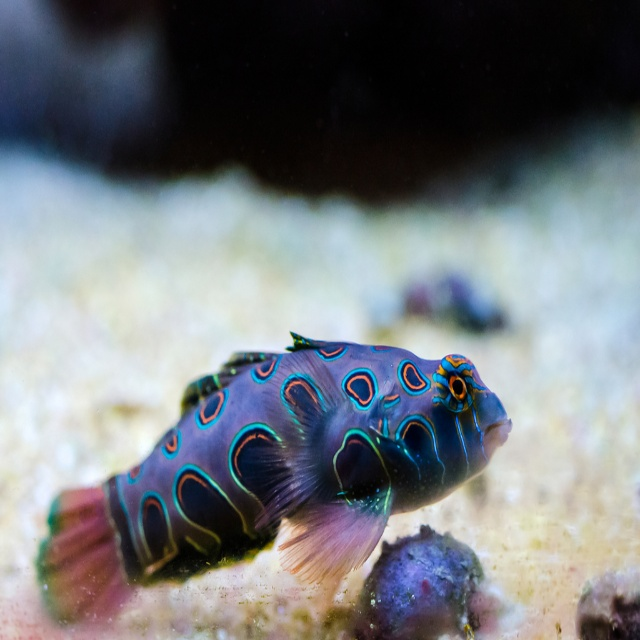Fish: (98, 334, 513, 619), (356, 513, 483, 639)
